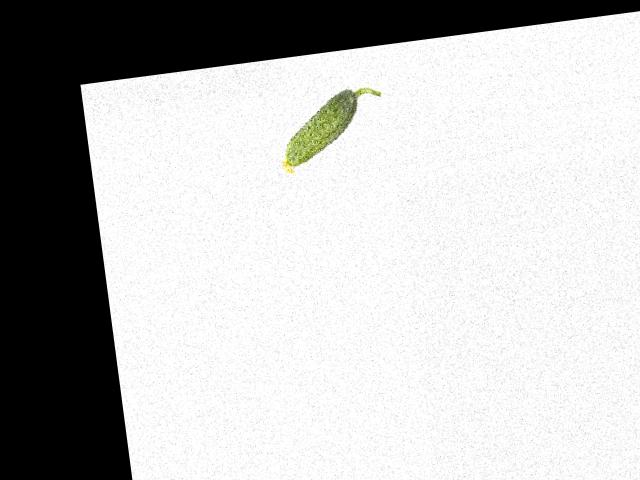cucumber: (272, 84, 388, 175)
